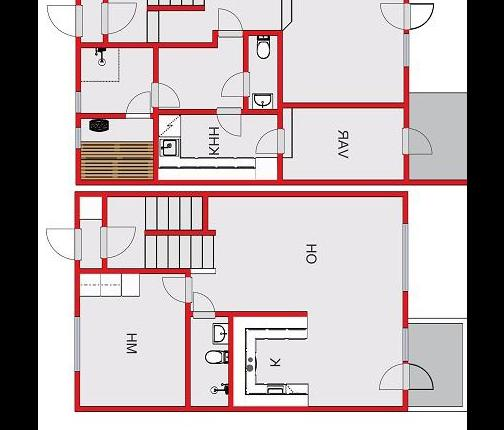bathroom: (186, 313, 228, 409), (244, 32, 279, 111)
door: (96, 222, 138, 261), (44, 225, 84, 264), (44, 2, 85, 39), (98, 0, 138, 37), (399, 124, 433, 158), (401, 360, 436, 393), (376, 359, 409, 393), (218, 69, 252, 101), (123, 88, 154, 122), (404, 0, 436, 32), (216, 6, 244, 42), (160, 274, 193, 304), (148, 80, 181, 110), (378, 1, 409, 32), (214, 106, 244, 138), (252, 127, 284, 157), (190, 290, 216, 322)
perimeter: (72, 0, 409, 412)
stairs: (142, 235, 216, 270), (144, 196, 202, 232), (144, 0, 204, 8)
window: (398, 220, 412, 294), (72, 314, 82, 374), (398, 31, 412, 69), (399, 326, 412, 364), (72, 90, 82, 114), (73, 126, 82, 150)
